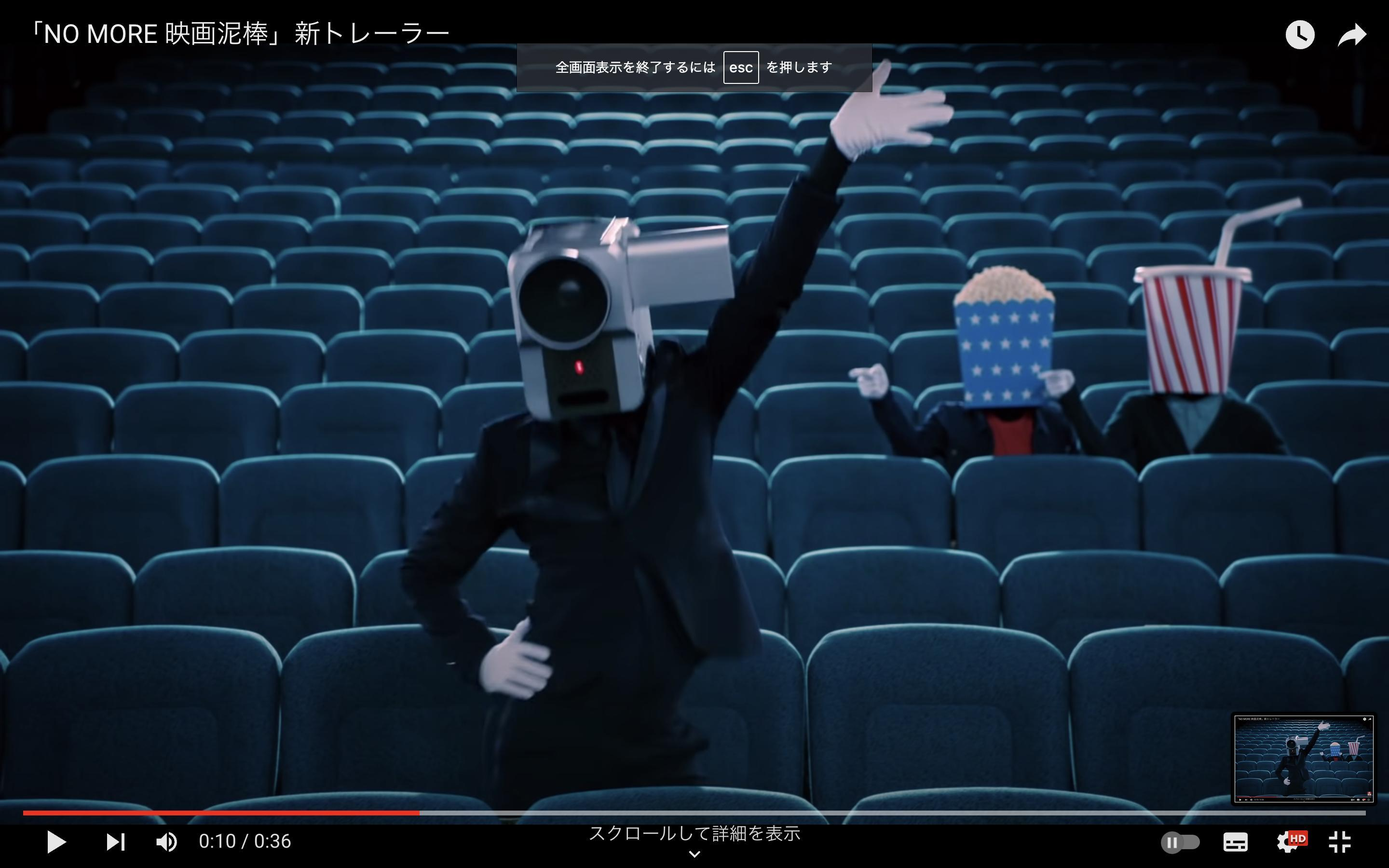no more kid: (506, 220, 743, 426)
